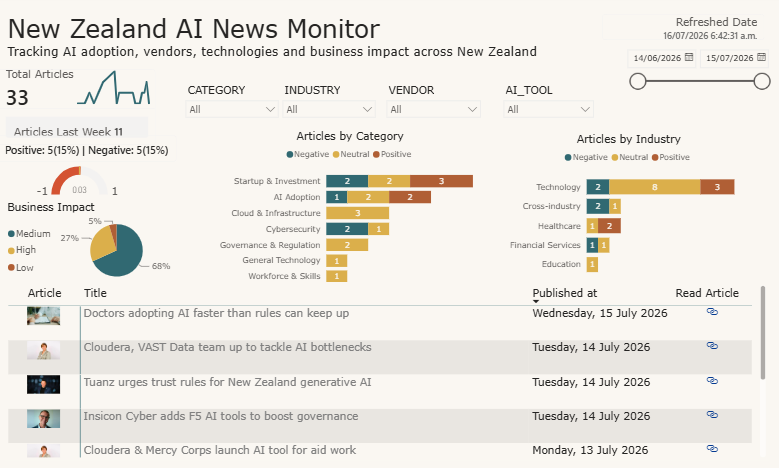

The dashboard page shown, as its layout file describes it:
{"tool":"powerbi","page":{"name":"Page 1","canvas":[1280,720],"ordinal":0},"visuals":[{"type":"barChart","title":"Articles by Category","fields":{"Category":["Fact News Articles.AI_CATEGORY"],"Y":["CountNonNull(Fact News Articles.ARTICLE_KEY)"],"Series":["Fact News Articles.SENTIMENT_LABEL"]},"box":[371.3,203.3,446.1,248.5],"z":0},{"type":"barChart","title":"Articles by Industry","fields":{"Y":["CountNonNull(Fact News Articles.ARTICLE_KEY)"],"Category":["Fact News Articles.INDUSTRY"],"Series":["Fact News Articles.SENTIMENT_LABEL"]},"box":[817.4,207.5,399.5,230.1],"z":1000},{"type":"cardVisual","fields":{"Data":["Dax Measures.Total Articles"]},"box":[42.4,94.9,274.6,149.6],"z":2000},{"type":"lineChart","title":"Total Articles","fields":{"Category":["Date.Date"],"Y2":["CountNonNull(Fact News Articles.ARTICLE_KEY)"]},"box":[167.6,101.9,137.7,68.9],"z":3000},{"type":"gauge","title":"Sentiment Score","fields":{"Y":["Avg(Fact News Articles.SENTIMENT_SCORE)"],"TargetValue":["Dax Measures.Sentiment Neutral"],"MinValue":["Dax Measures.Sentiment Negative"],"MaxValue":["Dax Measures.Sentiment Positive"]},"box":[81.9,254.1,197.6,57.9],"z":4000},{"type":"pivotTable","fields":{"Rows":["Fact News Articles.IMAGE_URL"],"Values":["Min(Fact News Articles.TITLE)","Min(Fact News Articles.PUBLISHED_DATE)","Min(Fact News Articles.ARTICLE_URL)"]},"box":[70.6,434.8,1159.1,271.1],"z":5000},{"type":"textbox","box":[70.4,22.5,925.1,80.4],"z":6000},{"type":"slicer","fields":{"Values":["Date.Date"]},"box":[1001.7,73.6,237.9,75.1],"z":7000},{"type":"cardVisual","fields":{"Data":["Dax Measures.Refreshed Date"]},"box":[959.5,12.7,280.2,73.6],"z":8000},{"type":"cardVisual","fields":{"Data":["Dax Measures.Sentiment Outcomes"]},"box":[50.8,207.5,285.2,50.8],"z":9000},{"type":"slicer","fields":{"Values":["Fact News Articles.AI_CATEGORY"]},"box":[335.8,129.3,161.2,65.7],"z":10000},{"type":"slicer","fields":{"Values":["Fact News Articles.VENDOR"]},"box":[639.2,129.3,162.8,78.3],"z":11000},{"type":"slicer","fields":{"Values":["Fact News Articles.INDUSTRY"]},"box":[482.7,129.3,161.2,81.4],"z":12000},{"type":"slicer","fields":{"Values":["Fact News Articles.AI_TOOL"]},"box":[817.9,129.3,156.5,65.7],"z":13000},{"type":"pieChart","title":"Business Impact","fields":{"Category":["Fact News Articles.BUSINESS_IMPACT"],"Y":["CountNonNull(Fact News Articles.ARTICLE_KEY)"]},"box":[70.1,311.4,266.3,133.9],"z":14000}]}

Visuals, with their boxes on the page's 1280x720 design canvas (x1, y1, x2, y2). These are canvas units, not pixel positions in the 779x468 screenshot, which may show the page scaled, cropped or inside an application window:
"Articles by Category" barChart: 371,203,817,452
"Articles by Industry" barChart: 817,208,1217,438
cardVisual - Dax Measures.Total Articles: 42,95,317,244
"Total Articles" lineChart: 168,102,305,171
"Sentiment Score" gauge: 82,254,280,312
pivotTable - Fact News Articles.IMAGE_URL x Min(Fact News Articles.TITLE): 71,435,1230,706
textbox: 70,22,996,103
slicer - Date.Date: 1002,74,1240,149
cardVisual - Dax Measures.Refreshed Date: 960,13,1240,86
cardVisual - Dax Measures.Sentiment Outcomes: 51,208,336,258
slicer - Fact News Articles.AI_CATEGORY: 336,129,497,195
slicer - Fact News Articles.VENDOR: 639,129,802,208
slicer - Fact News Articles.INDUSTRY: 483,129,644,211
slicer - Fact News Articles.AI_TOOL: 818,129,974,195
"Business Impact" pieChart: 70,311,336,445
